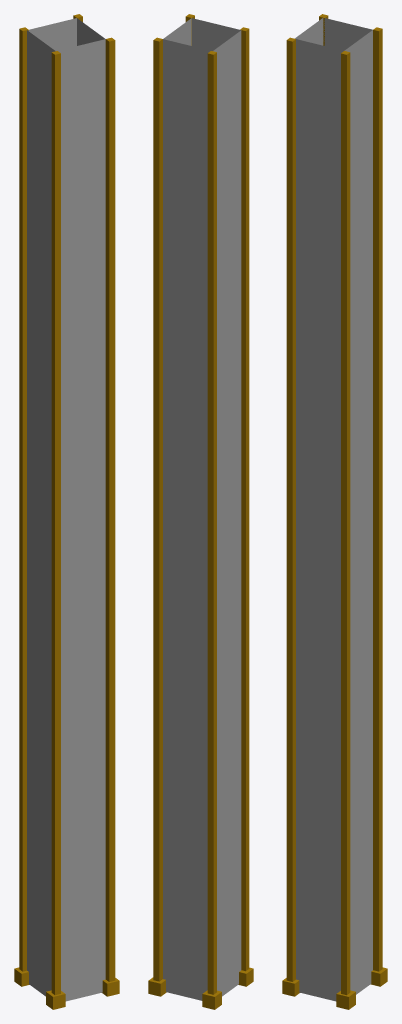
File: kran.fbx
3 views of the same model, side by side, from view 1: azimuth 30°, elevation 25°; view 2: azimuth 150°, elevation 25°; view 3: azimuth 330°, elevation 25° (orthographic).
Visible parts, largest first — view 1: pCube17; view 2: pCube17; view 3: pCube17.
Boxes of the visible parts, x1,y1,x2,y2 form: pCube17: (14, 14, 119, 1009); pCube17: (148, 14, 253, 1009); pCube17: (282, 14, 387, 1009).
Bounding box in the file's own units: 2061 × 28223 × 2082.
